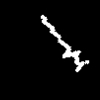double_crochet: (41, 15, 88, 71)
